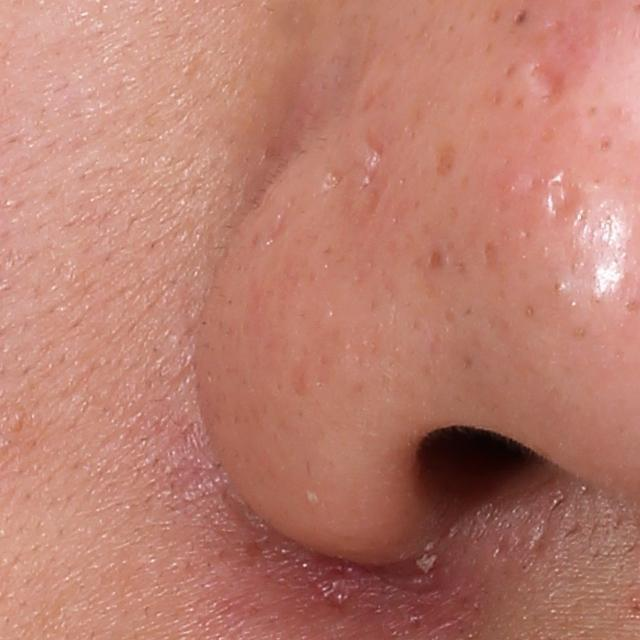atrophic_scar: (522, 62, 574, 108), (357, 122, 387, 192), (547, 168, 585, 222)
comedo: (509, 4, 536, 31)
melasma: (429, 136, 461, 183)
